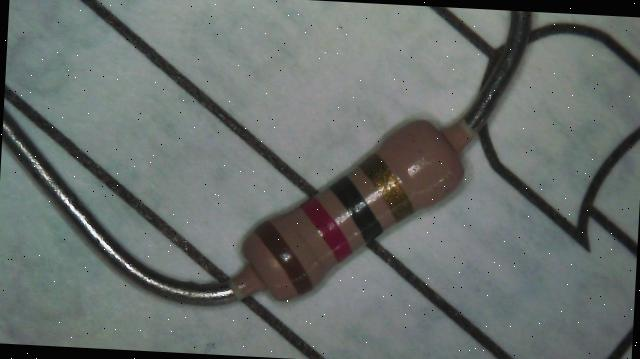black: (327, 174, 388, 244)
brown: (253, 219, 318, 298)
gold: (357, 154, 417, 222)
red: (298, 196, 356, 264)
resistor: (192, 80, 507, 337)
